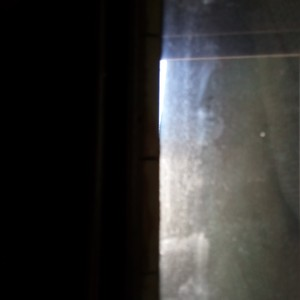out: (1, 1, 298, 298)
